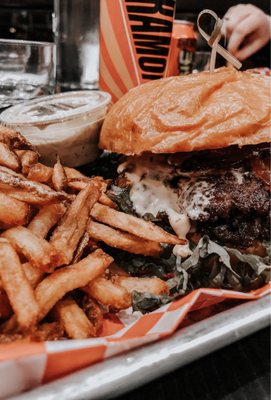sushi: (1, 90, 112, 168)
